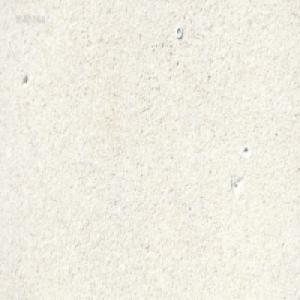Washer: (175, 25, 182, 39)
